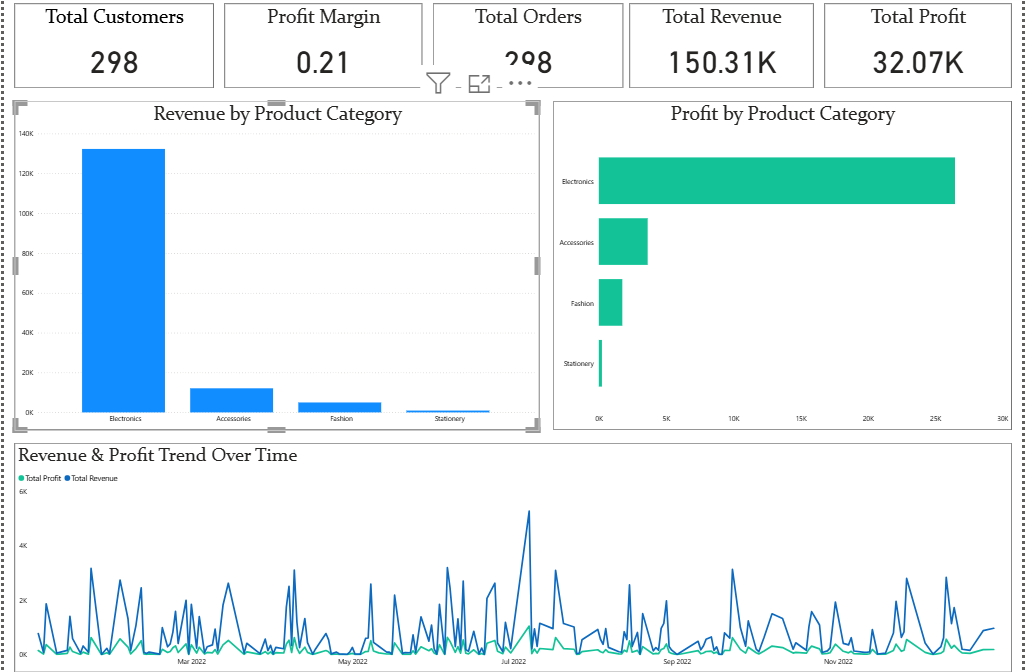

Layout of this report page (visuals, bound fields, positions):
{"tool":"powerbi","page":{"name":"Page 1","canvas":[1800,1200],"ordinal":0},"visuals":[{"type":"card","title":"Total Customers","fields":{"Values":["Sheet1.Total Customer"]},"box":[18.6,18.6,352.6,148.5],"z":0},{"type":"card","title":"Total Orders","fields":{"Values":["Sheet1.Total Orders"]},"box":[757.3,18.7,336,149.3],"z":1},{"type":"card","title":"Total Profit","fields":{"Values":["Sheet1.Total Profit"]},"box":[1450.7,18.7,330.7,149.3],"z":2},{"type":"card","title":"Total Revenue ","fields":{"Values":["Sheet1.Total Revenue"]},"box":[1106.7,18.7,325.3,149.3],"z":3},{"type":"card","title":"Profit Margin","fields":{"Values":["Sheet1.Profit Margin %"]},"box":[389.3,18.7,349.3,149.3],"z":4},{"type":"columnChart","title":"Revenue by Product Category","fields":{"Category":["Sheet1.Category"],"Y":["Sheet1.Total Revenue"]},"box":[18.7,192,928,581.3],"z":5},{"type":"clusteredBarChart","title":"Profit by Product Category","fields":{"Category":["Sheet1.Category"],"Y":["Sheet1.Total Profit"]},"box":[970.7,192,810.7,581.3],"z":6},{"type":"lineChart","title":"Revenue & Profit Trend Over Time","fields":{"Category":["Sheet1.OrderDate"],"Y":["Sheet1.Total Profit","Sheet1.Total Revenue"]},"box":[18.7,794.7,1762.7,405.3],"z":8}]}

Visuals, with their boxes in screenshot pixels (x1, y1, x2, y2), scaled from the page's 1800x1200 canvas onto the 1025x672 screenshot:
"Total Customers" card: detection(11, 10, 211, 94)
"Total Orders" card: detection(431, 10, 623, 94)
"Total Profit" card: detection(826, 10, 1014, 94)
"Total Revenue " card: detection(630, 10, 815, 94)
"Profit Margin" card: detection(222, 10, 421, 94)
"Revenue by Product Category" columnChart: detection(11, 108, 539, 433)
"Profit by Product Category" clusteredBarChart: detection(553, 108, 1014, 433)
"Revenue & Profit Trend Over Time" lineChart: detection(11, 445, 1014, 671)
